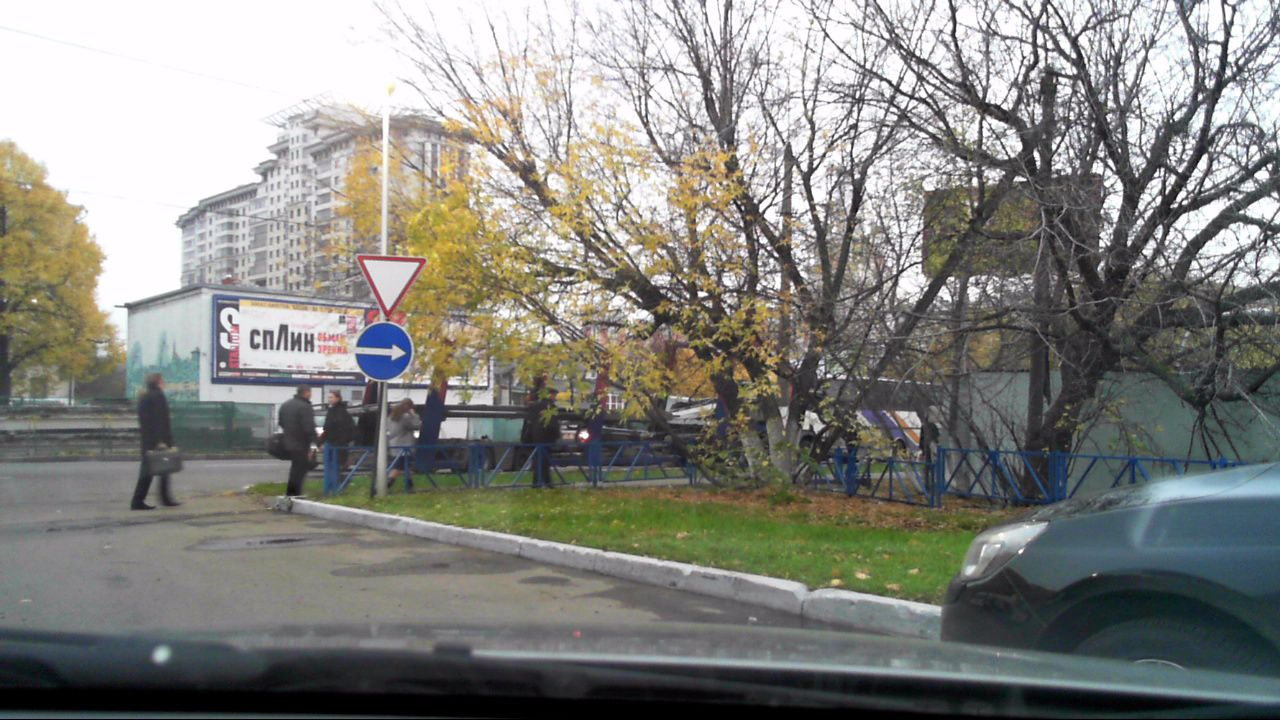Turn Right: (353, 322, 413, 381)
